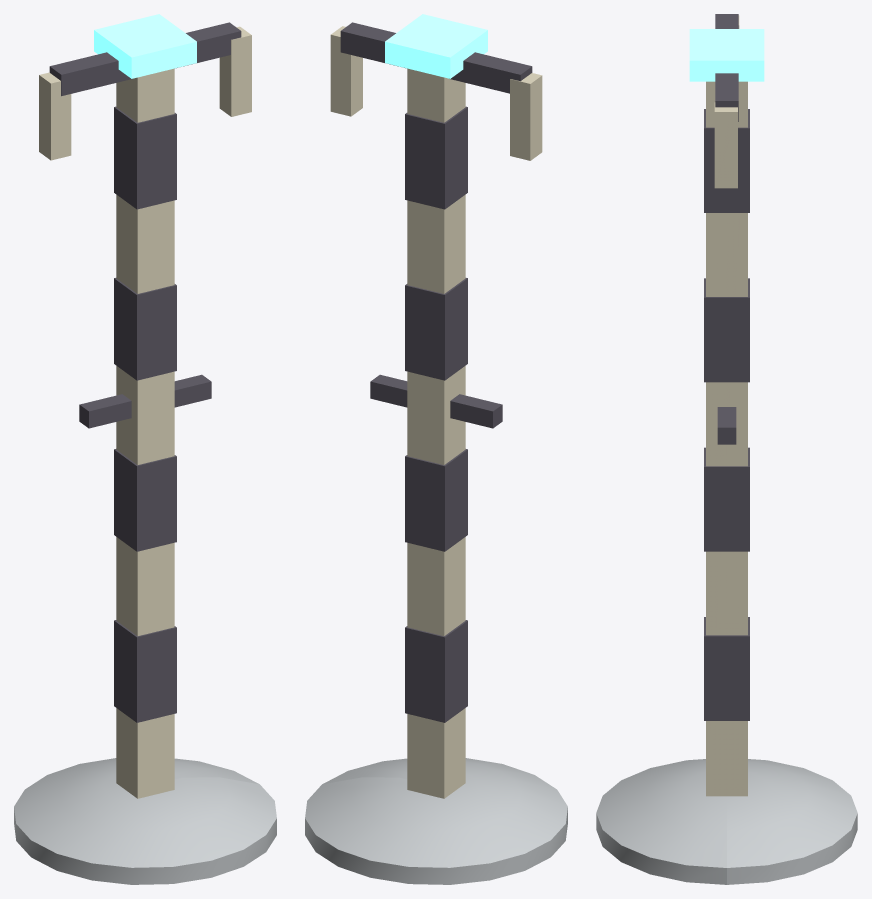
The model's file is xeno-species-and-alien-creatures-scale-marker-post-49afdb59__21145.glb.
3 views of the same model, side by side, from view 1: azimuth 30°, elevation 25°; view 2: azimuth 150°, elevation 25°; view 3: azimuth 270°, elevation 25° (orthographic).
Visible parts, largest first — view 1: scale-marker-post; view 2: scale-marker-post; view 3: scale-marker-post.
Part boxes in pixels (box(x1,y1,x2,y2)): scale-marker-post: box(14, 14, 276, 884); scale-marker-post: box(305, 14, 567, 884); scale-marker-post: box(596, 14, 857, 884).
Bounding box in the file's own units: 0.56 × 1.86 × 0.56.
